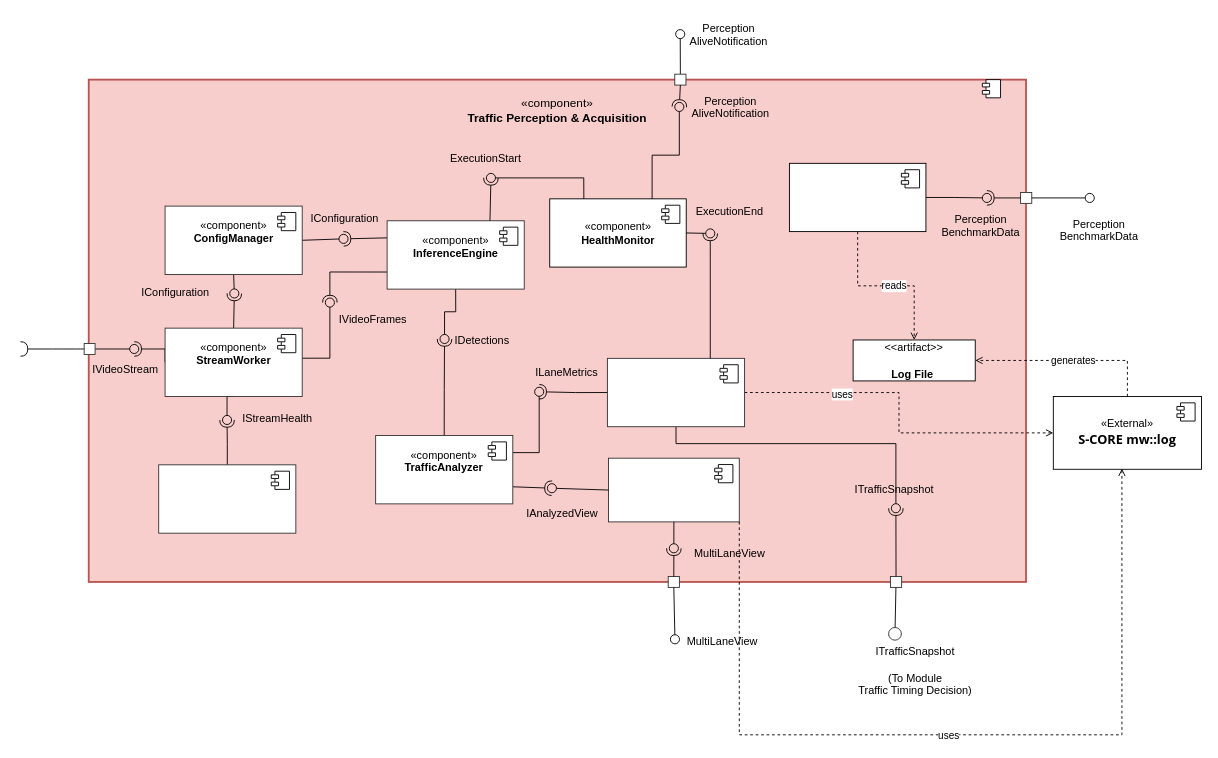
The diagram is 1218 pixels wide and 758 high, and some of its shapes have lost their labels. Each missing label, with the centre of its shape:
«component» LogAnalyzer: the point at 857,197
«component» OpenCVLanesViewer: the point at 673,489
«component» SnapshotPublisher: the point at 676,392
«component» StreamWatchdog: the point at 227,498
